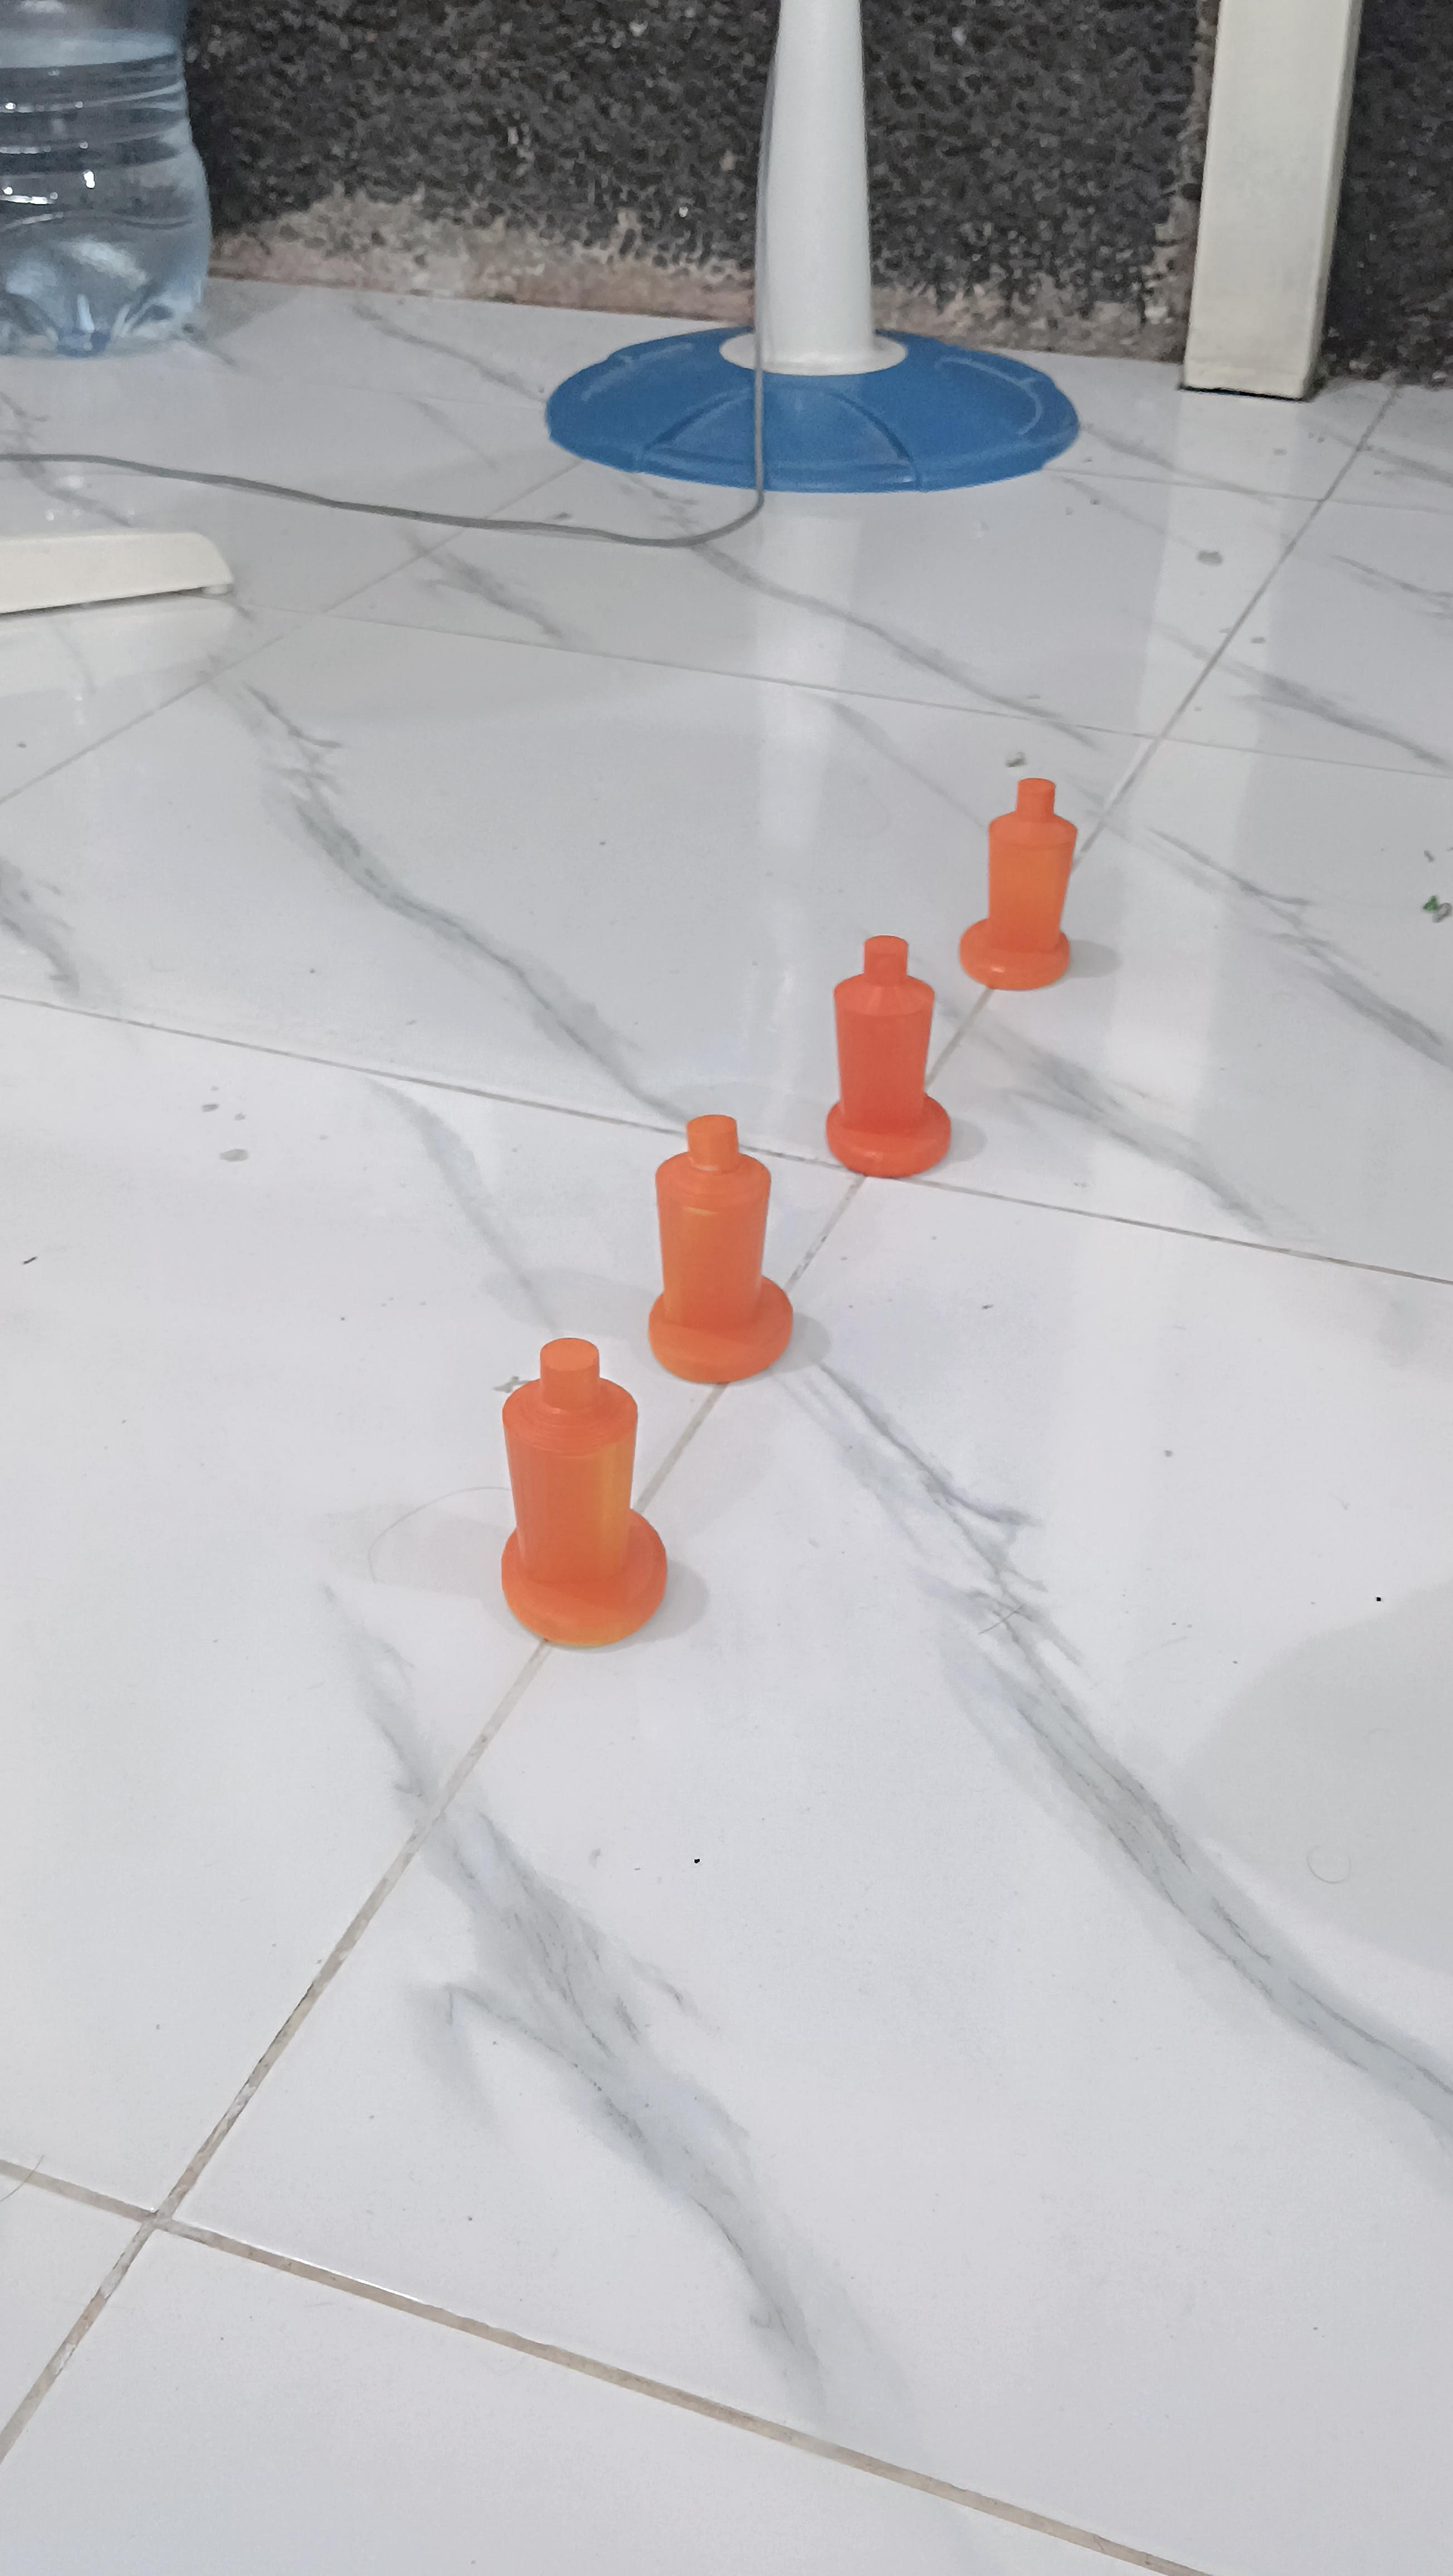dummy: (476, 1329, 674, 1697), (641, 1081, 796, 1403), (802, 920, 963, 1208), (947, 732, 1110, 1000)
